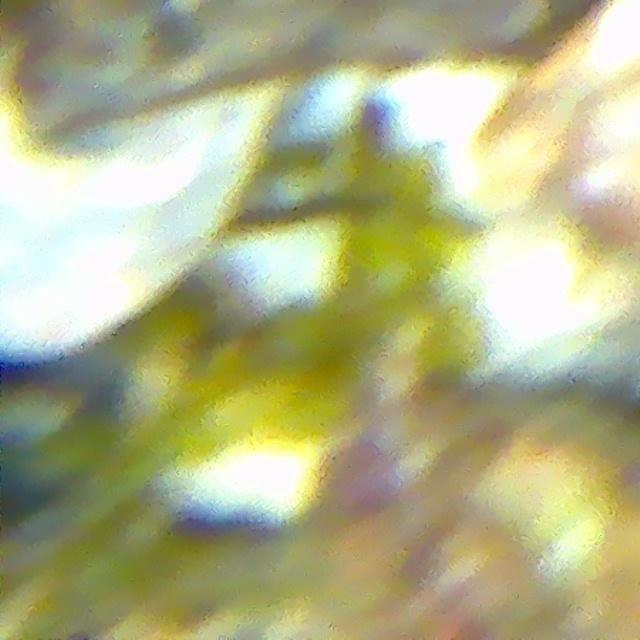SeaGrape: (349, 206, 445, 305)
